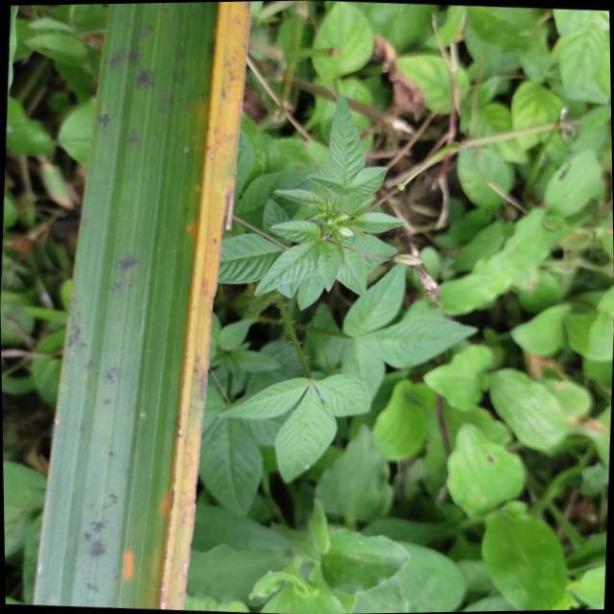Megnesium: (34, 0, 244, 614)
